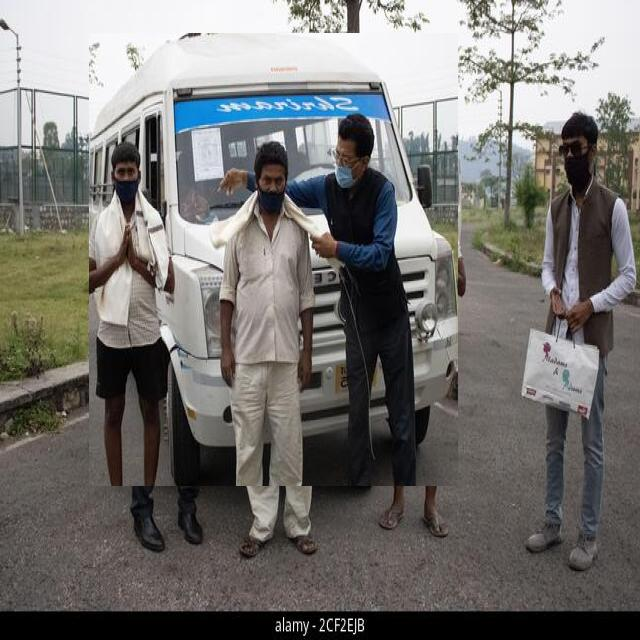car: (90, 34, 458, 486), (200, 256, 246, 436)
